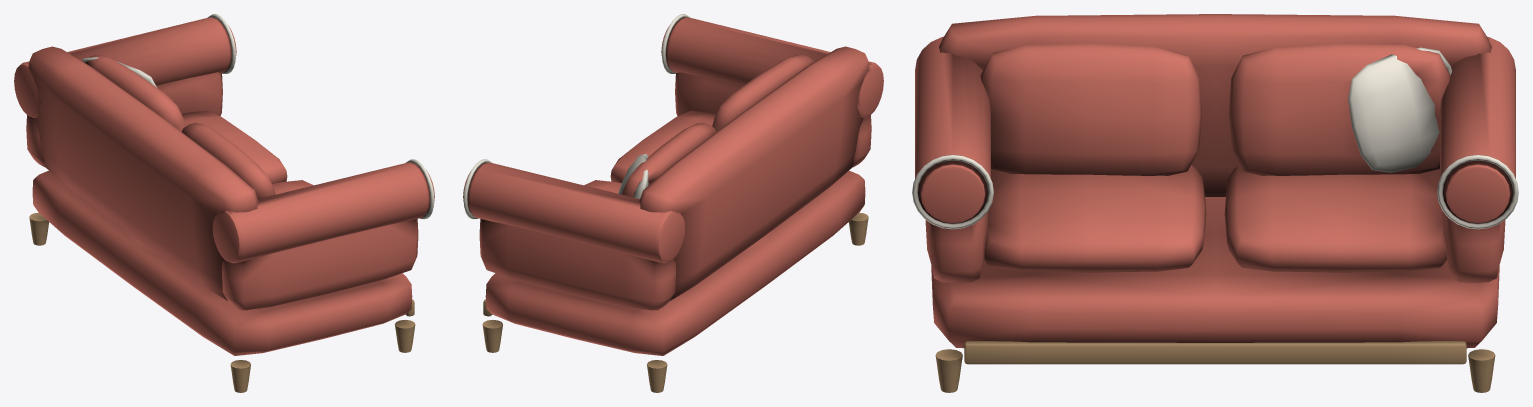
The model's file is nd_sofa.glb.
3 views of the same model, side by side, from view 1: azimuth 30°, elevation 25°; view 2: azimuth 150°, elevation 25°; view 3: azimuth 270°, elevation 25° (orthographic). The views are drawn at different scales.
Parts seen in each view (by area): view 1: PART; view 2: PART; view 3: PART.
Part boxes in pixels (bbox=[...]): PART: bbox=[14, 14, 434, 392]; PART: bbox=[463, 14, 883, 392]; PART: bbox=[912, 14, 1518, 392].
Bounding box in the file's own units: 0.8143 × 0.7746 × 1.6.
